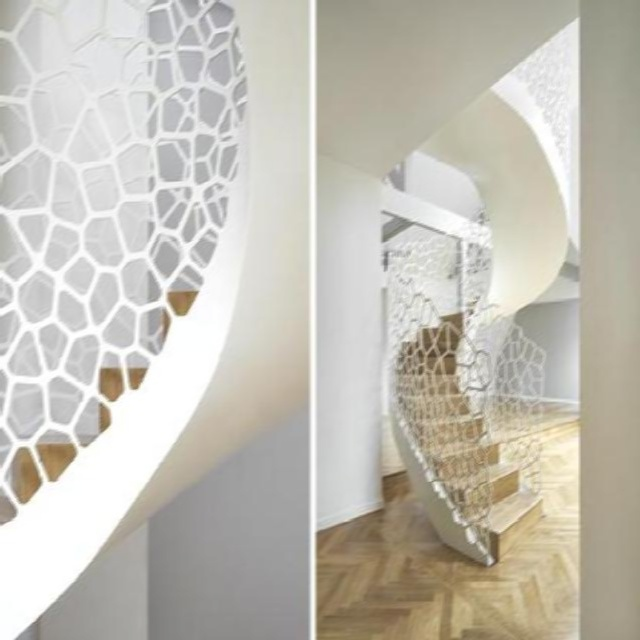stair: (393, 245, 527, 564)
